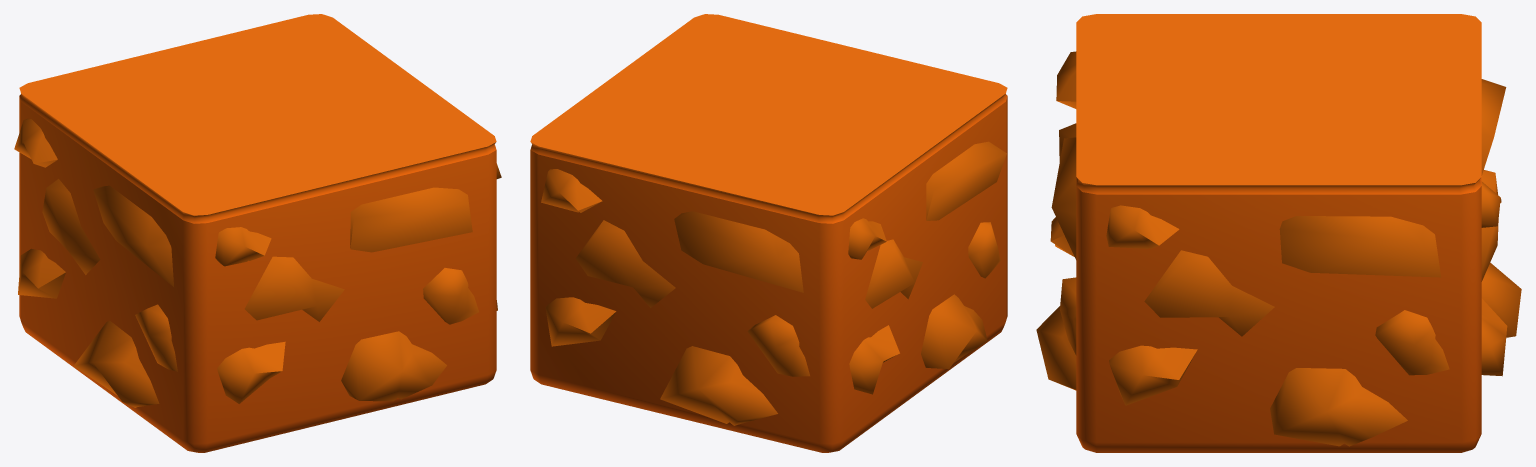
The model's file is 3D_Tile_Socket_Underground_B02.fbx.
The picture shows the model from 3 angles, left to right: view 1: azimuth 30°, elevation 25°; view 2: azimuth 150°, elevation 25°; view 3: azimuth 270°, elevation 25°; orthographic projection. The views are drawn at different scales.
Visible parts, largest first — view 1: 3D_Tile_Socket_Underground_B02; view 2: 3D_Tile_Socket_Underground_B02; view 3: 3D_Tile_Socket_Underground_B02.
Part boxes in pixels (x1=…): 3D_Tile_Socket_Underground_B02: x1=14, y1=14, x2=501, y2=452; 3D_Tile_Socket_Underground_B02: x1=530, y1=14, x2=1007, y2=452; 3D_Tile_Socket_Underground_B02: x1=1036, y1=14, x2=1521, y2=452.
Bounding box in the file's own units: 239 × 150 × 239.
